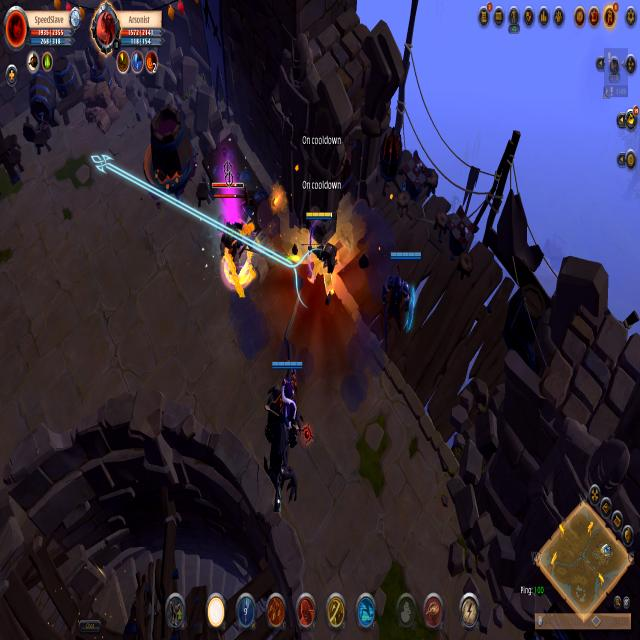ore: (210, 160, 252, 295)
red: (381, 246, 426, 332), (268, 354, 307, 447), (303, 208, 338, 300)
